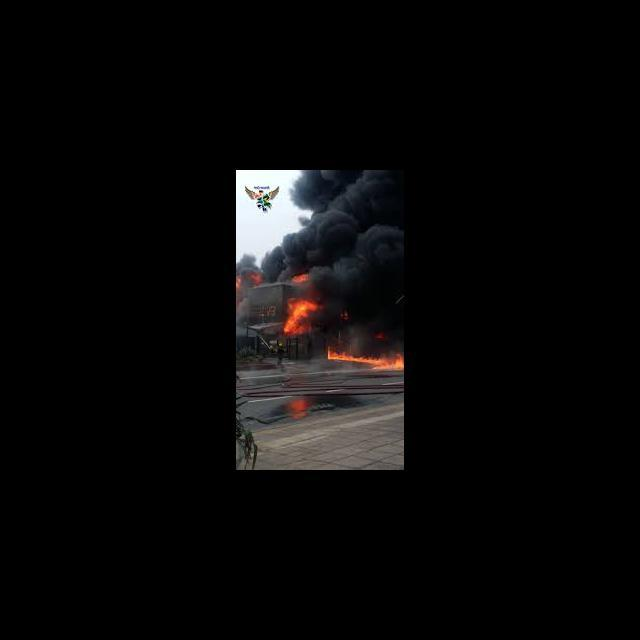Fire: (326, 344, 402, 378), (276, 294, 322, 342), (237, 268, 262, 308), (288, 268, 312, 285), (338, 306, 350, 322), (374, 331, 389, 340)
Smoke: (317, 172, 403, 288), (240, 171, 316, 268), (352, 292, 403, 331)
